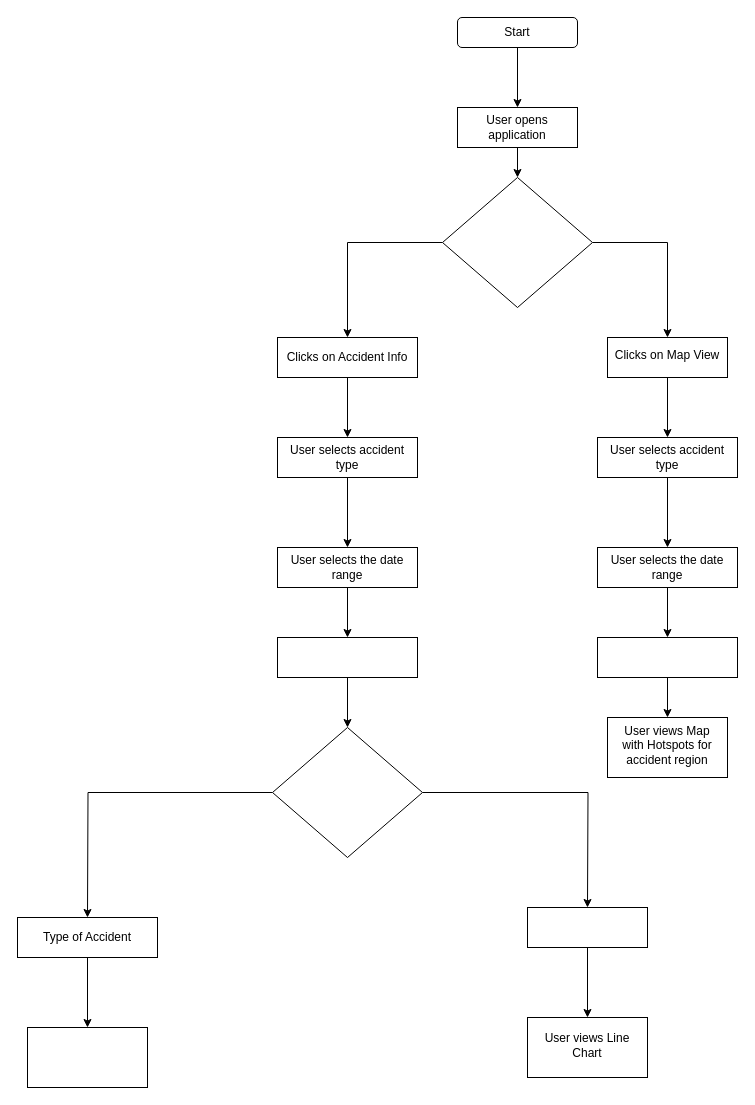
Image size: 755x1105. Some labels were removed from this diagram. Here are the shapes that lost their labels. From the top down, the centre of each, then its label:
At (517,242): "User Selects from Navigation Bar".
At (347,657): "Click Generate Graph".
At (667,657): "Click Generate Map".
At (347,792): "Select type of Graph".
At (587,927): "Time of Day".
At (87,1057): "User Views Bar Graph".
